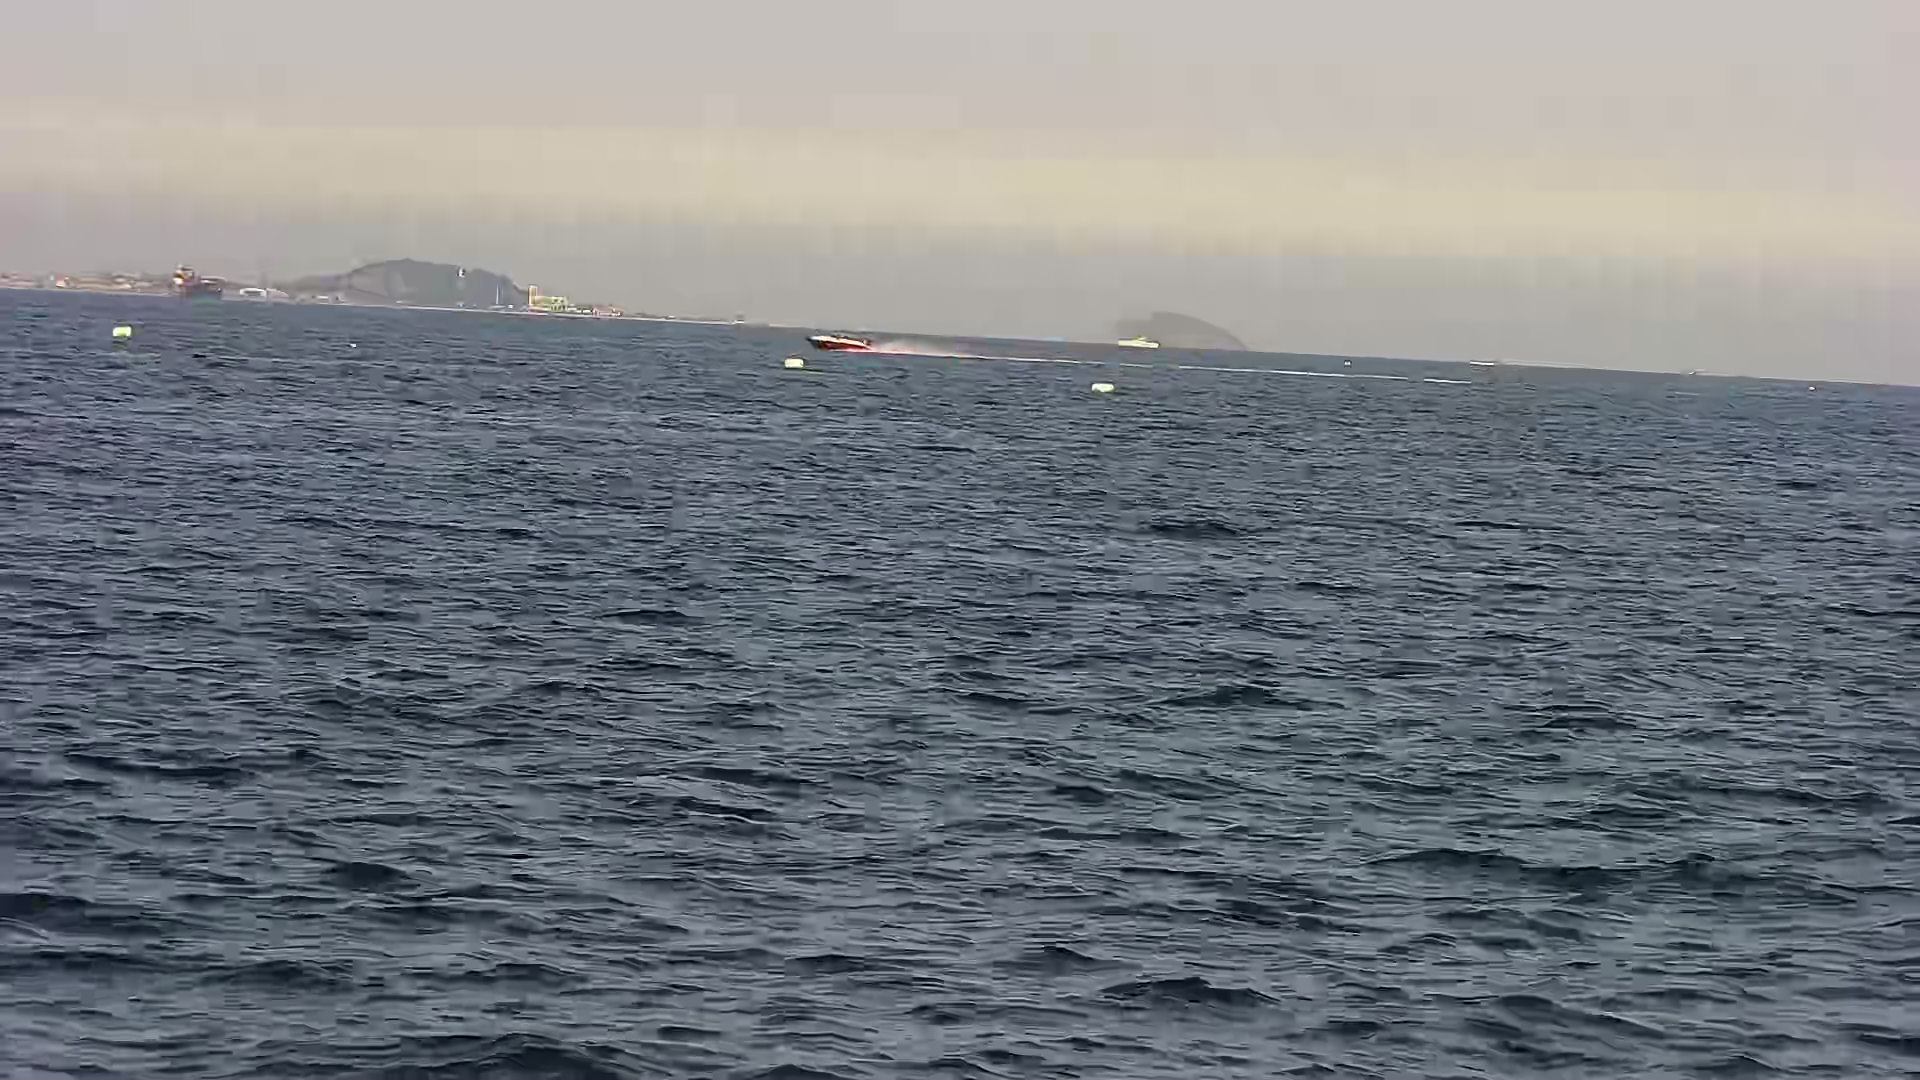boat: (800, 316, 886, 355), (1122, 334, 1167, 363)
rock: (1100, 297, 1253, 353)
